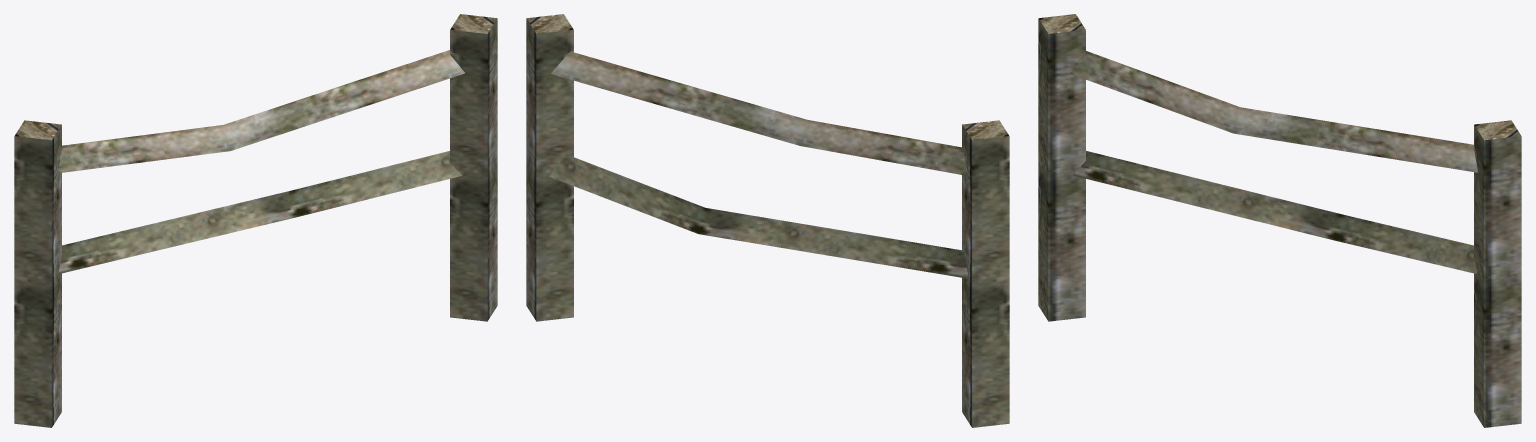
3 renders of one model, left to right at view 1: azimuth 30°, elevation 25°; view 2: azimuth 150°, elevation 25°; view 3: azimuth 330°, elevation 25°, orthographic.
Parts seen in each view (by area): view 1: Fence01; view 2: Fence01; view 3: Fence01.
Boxes of the visible parts, x1=… form: Fence01: x1=14, y1=14, x2=497, y2=427; Fence01: x1=526, y1=14, x2=1009, y2=427; Fence01: x1=1038, y1=14, x2=1521, y2=427.
Bounding box in the file's own units: 178 × 101 × 21.01.
